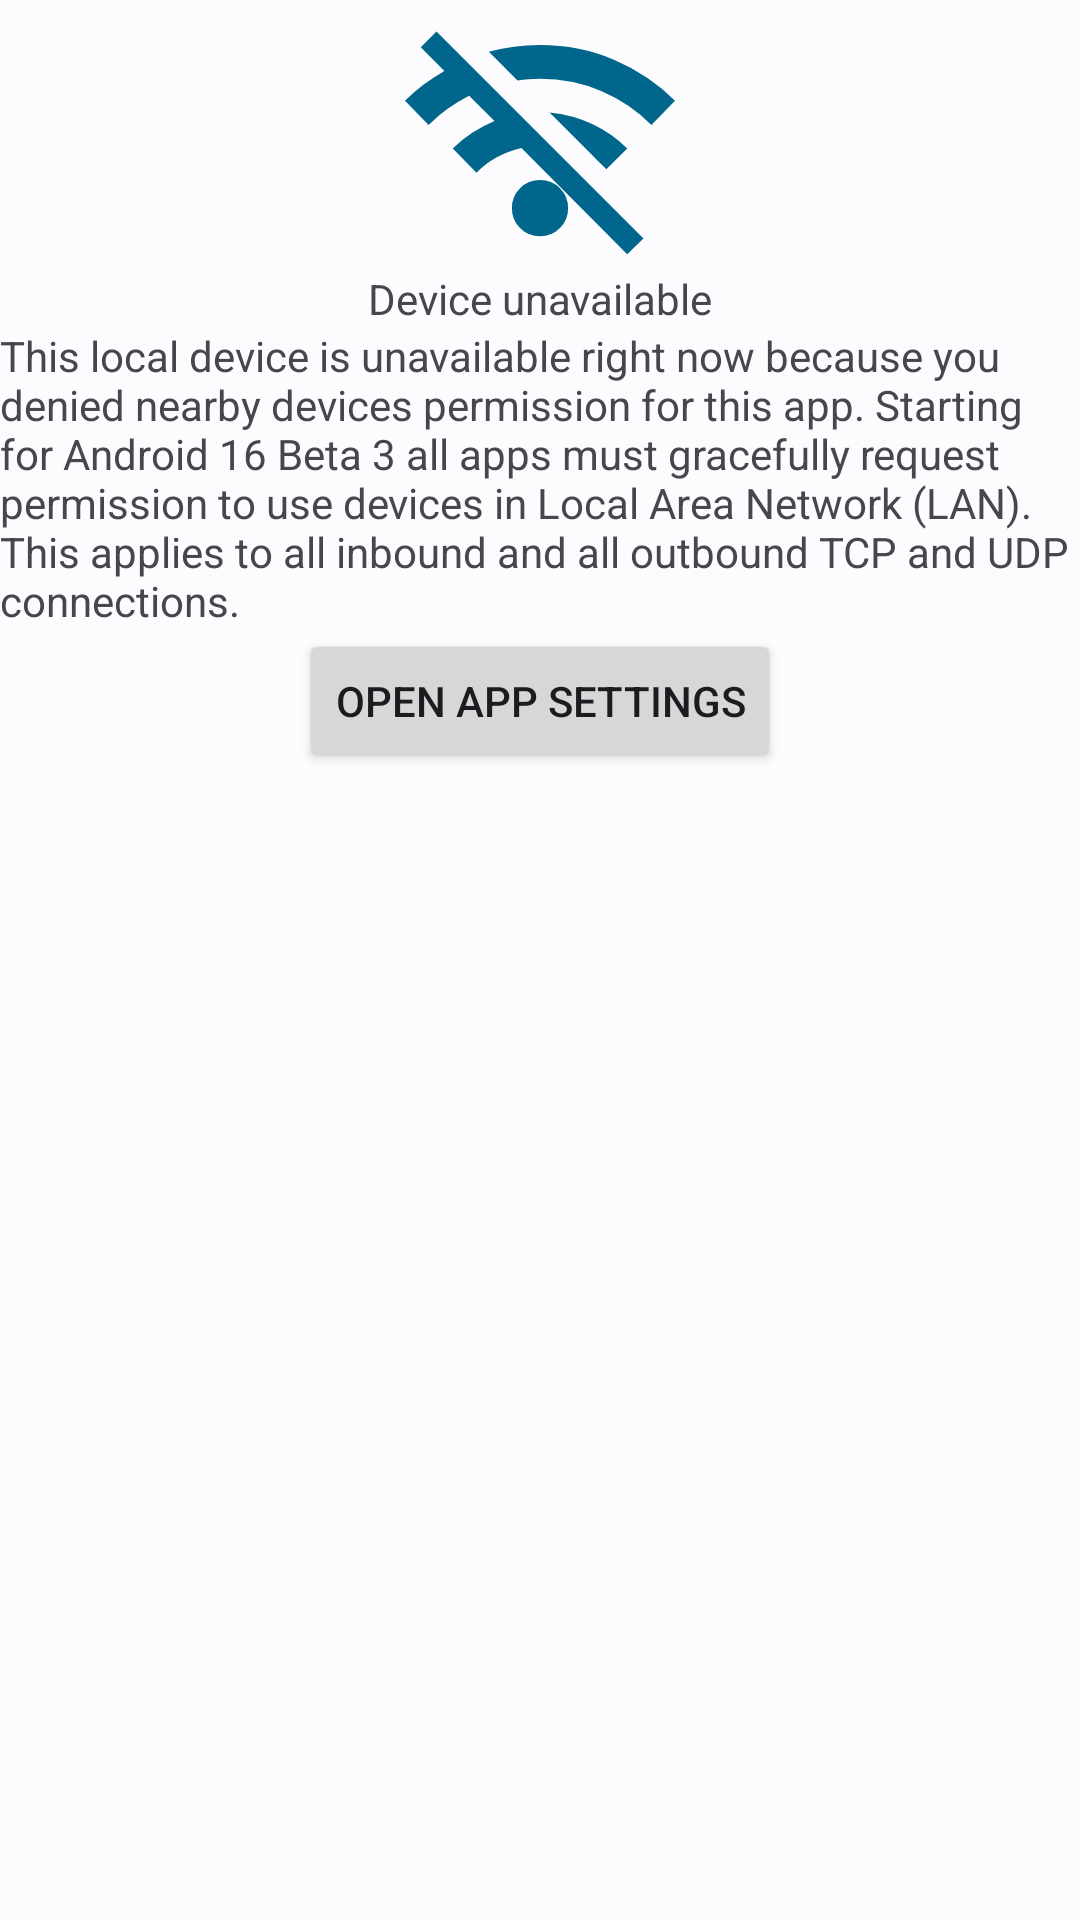

Where icons sit on this 1080×1920 app screen, as (x1, y1, x2, y2):
net off: (405, 31, 675, 254)
